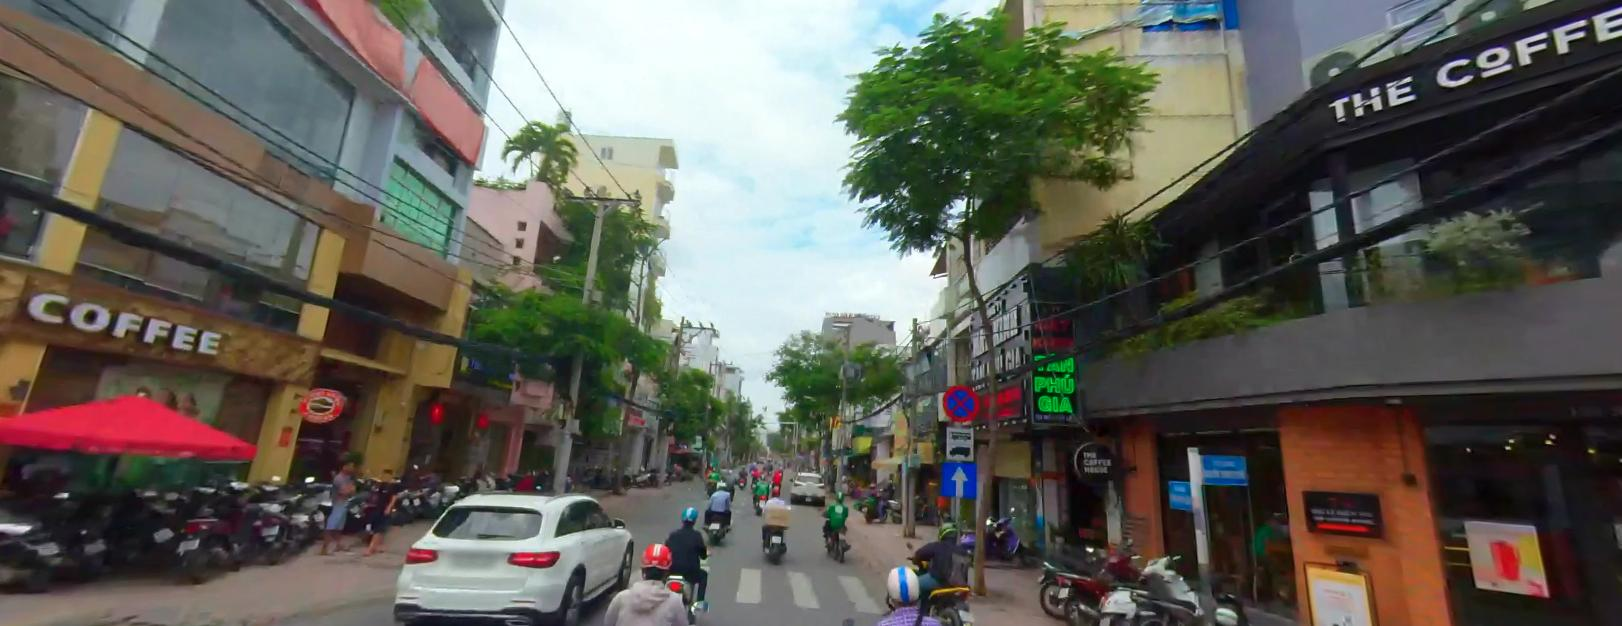Cam dung va do: (943, 383, 978, 421)
